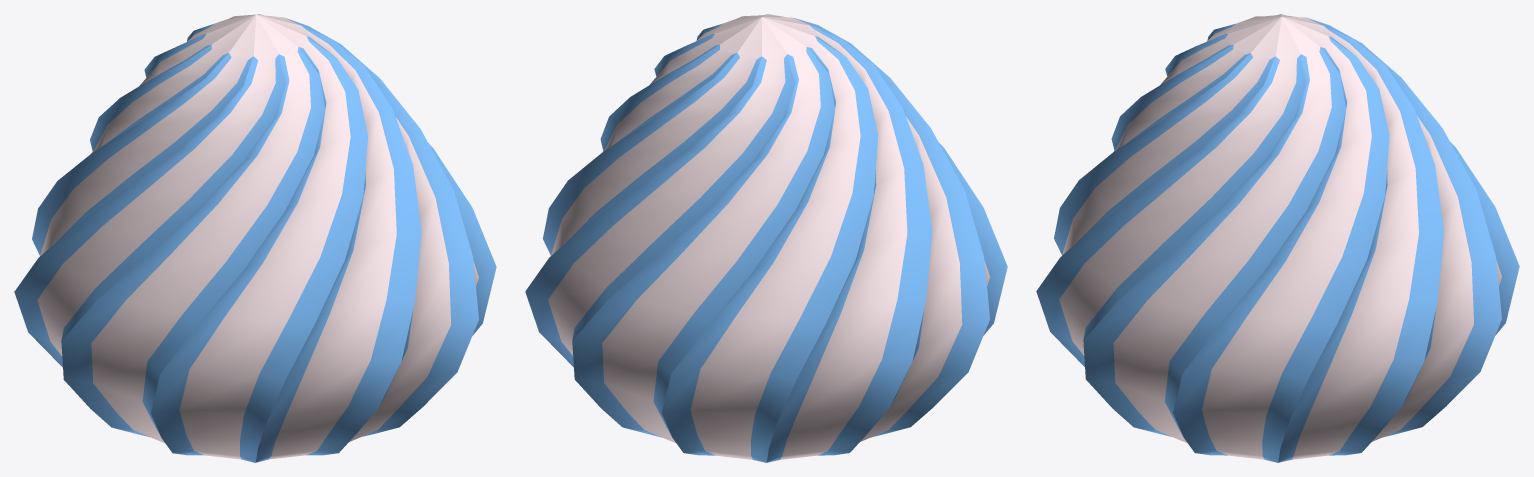
Rendered from Ice Cream Spiral B White Blue.fbx.
The picture shows the model from 3 angles, left to right: view 1: azimuth 30°, elevation 25°; view 2: azimuth 150°, elevation 25°; view 3: azimuth 270°, elevation 25°; orthographic projection.
Parts seen in each view (by area): view 1: Ice Cream Spiral B White Blue; view 2: Ice Cream Spiral B White Blue; view 3: Ice Cream Spiral B White Blue.
Boxes of the visible parts, left/top/right/bottom form: Ice Cream Spiral B White Blue: left=14, top=14, right=496, bottom=462; Ice Cream Spiral B White Blue: left=525, top=14, right=1007, bottom=462; Ice Cream Spiral B White Blue: left=1036, top=14, right=1519, bottom=462.
Size of the model in its own units: 0.4173 by 0.3732 by 0.4173.
